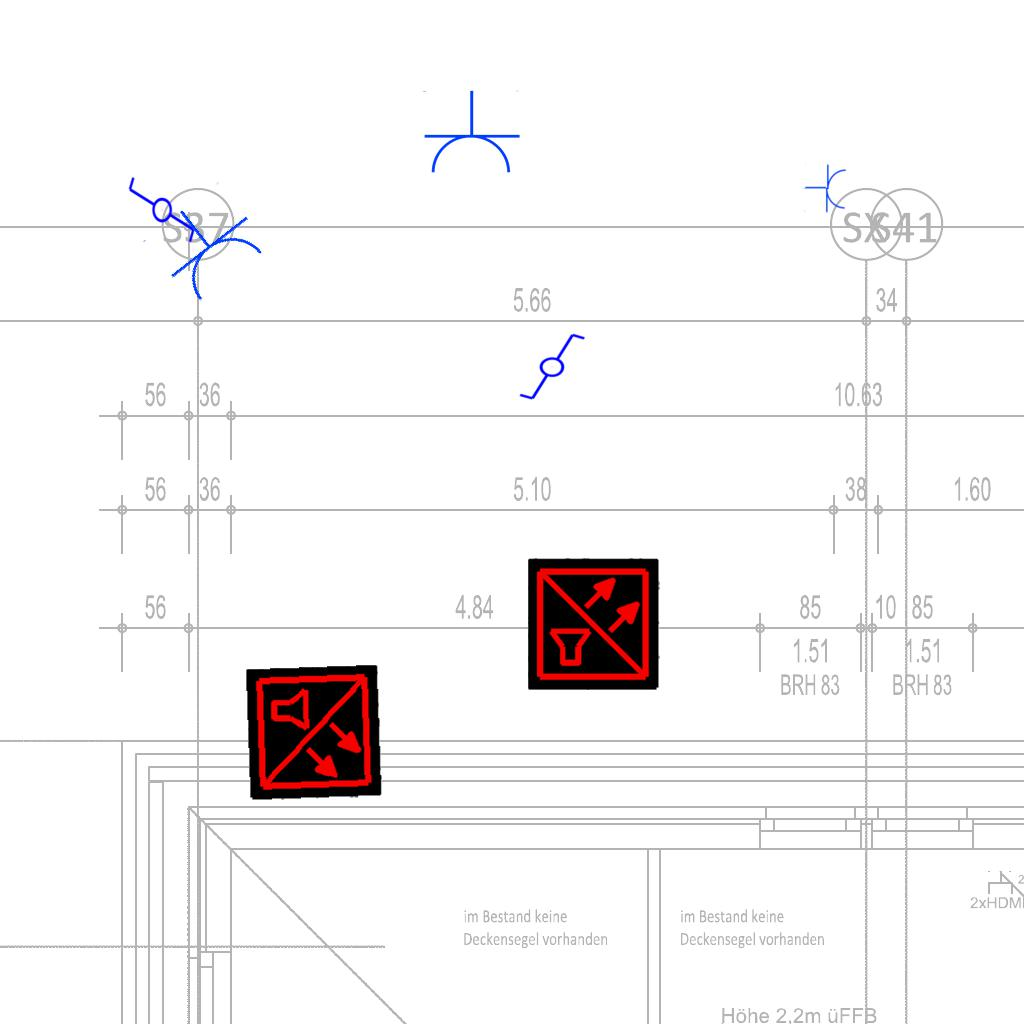OKW_Multisensormelder_(Kombination_optischer_Rauch-Kahlenmonoxid_Waerme-Melder): (245, 664, 383, 802), (528, 558, 660, 690)
Schukosteckdose_einfach: (140, 180, 274, 311), (421, 90, 521, 177), (804, 163, 848, 214)
Wechselschalter: (125, 175, 197, 253), (509, 330, 587, 402)
